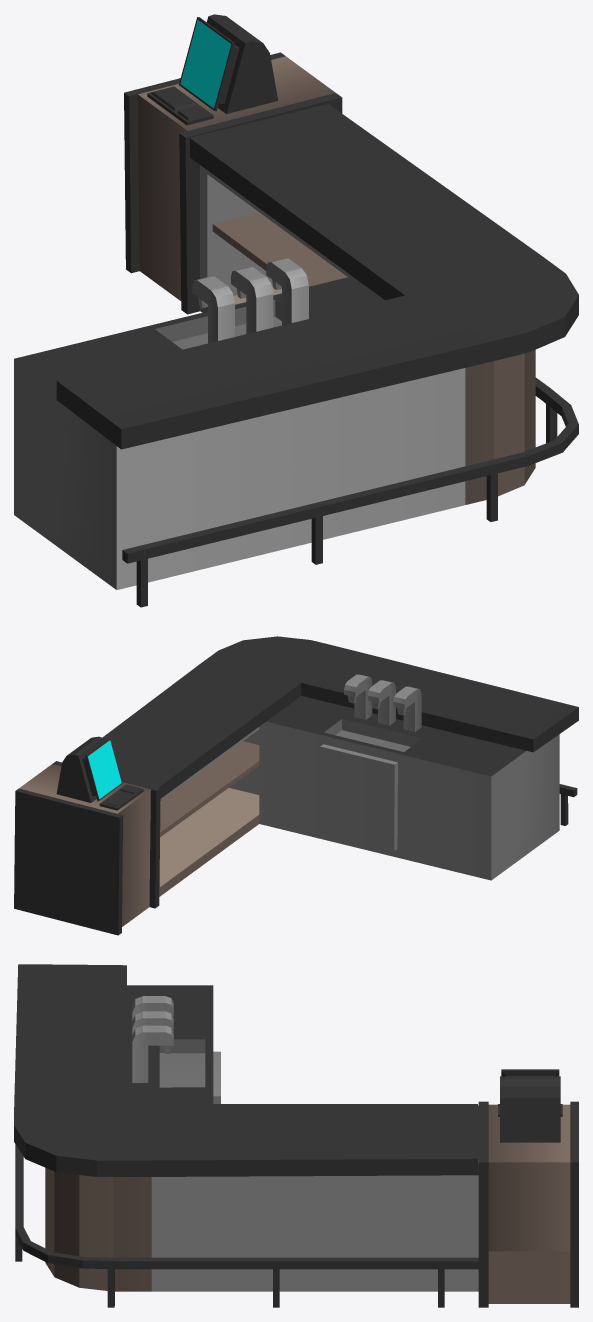
File: B01_Bar_1.fbx
3 renders of one model, top to bottom at view 1: azimuth 30°, elevation 25°; view 2: azimuth 150°, elevation 25°; view 3: azimuth 270°, elevation 25°, orthographic. The views are drawn at different scales.
Visible parts, largest first — view 1: B01_Bar_1; view 2: B01_Bar_1; view 3: B01_Bar_1.
Part boxes in pixels (box(x1,y1,x2,y2)): B01_Bar_1: box(14, 14, 578, 607); B01_Bar_1: box(14, 636, 578, 935); B01_Bar_1: box(14, 964, 578, 1307).
Size of the model in its own units: 277 by 132 by 329.
